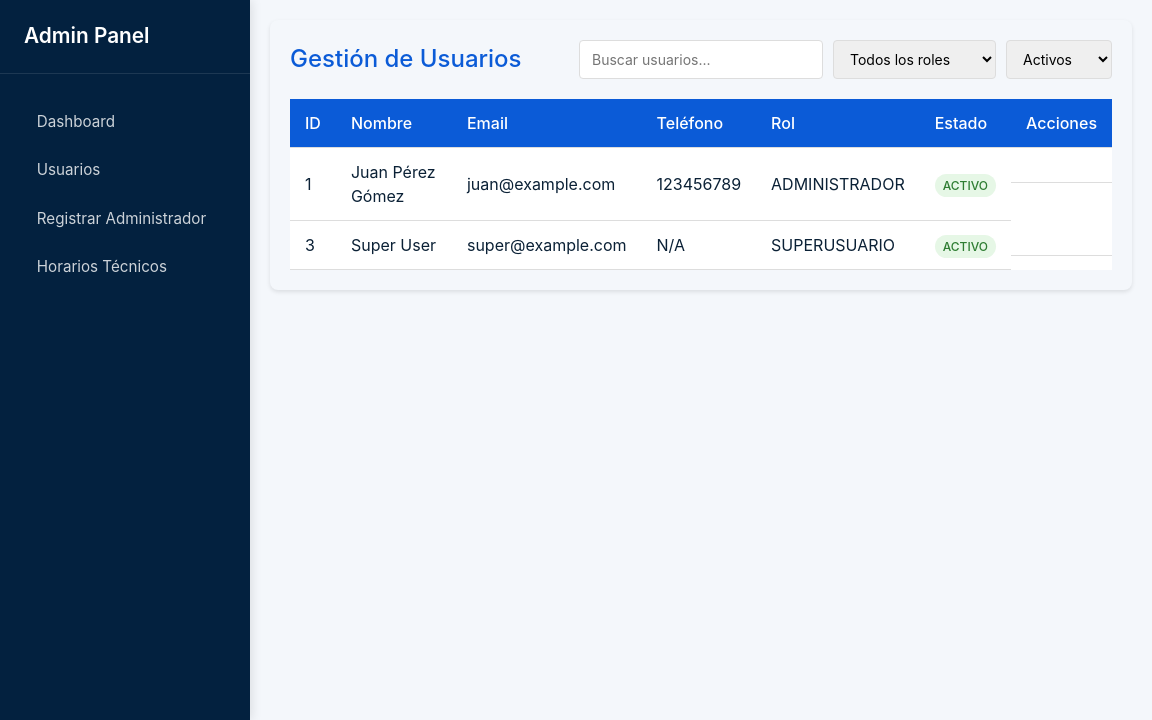
Test: UserManagement.vue › filtra usuarios por estado
Step 1. Select "Inactivos" in the dropdown with class "status-filter" → (1059,60), box x1=1006 y1=40 x2=1112 y2=79
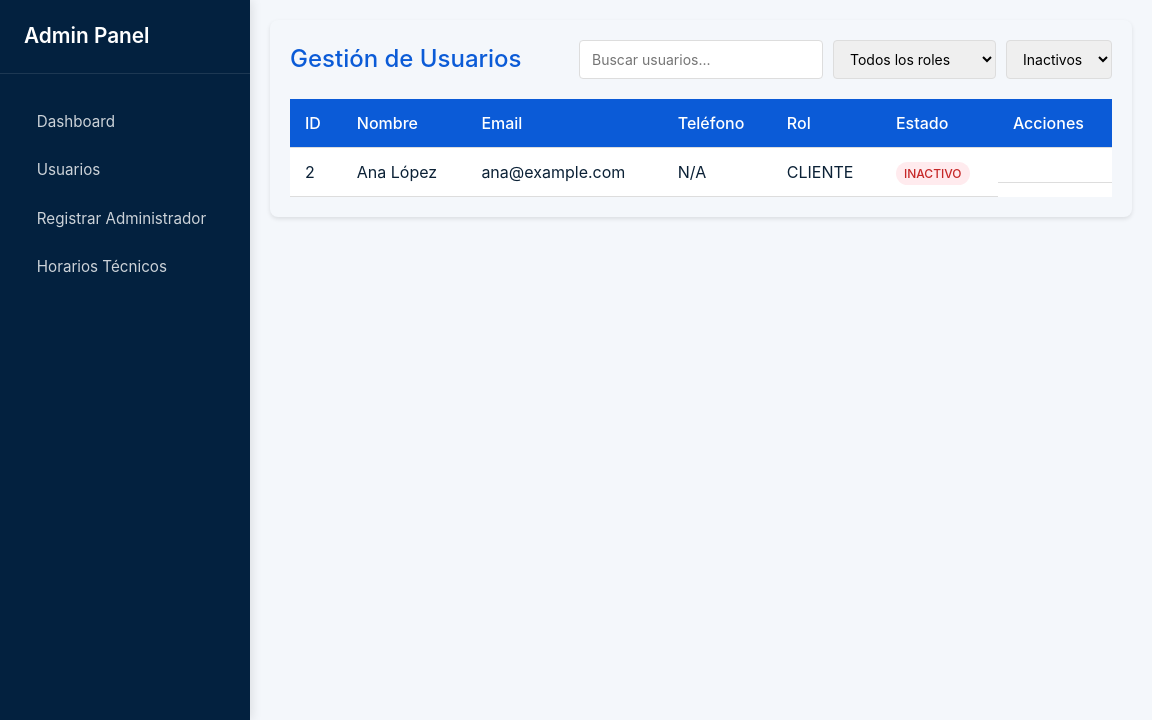
Expected: the text "INACTIVO" is shown, x1=896 y1=162 x2=970 y2=185
